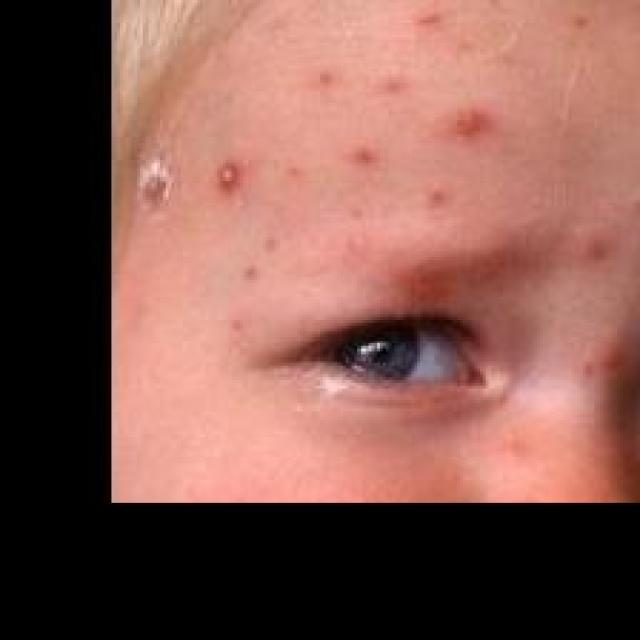others: (101, 12, 640, 375)
